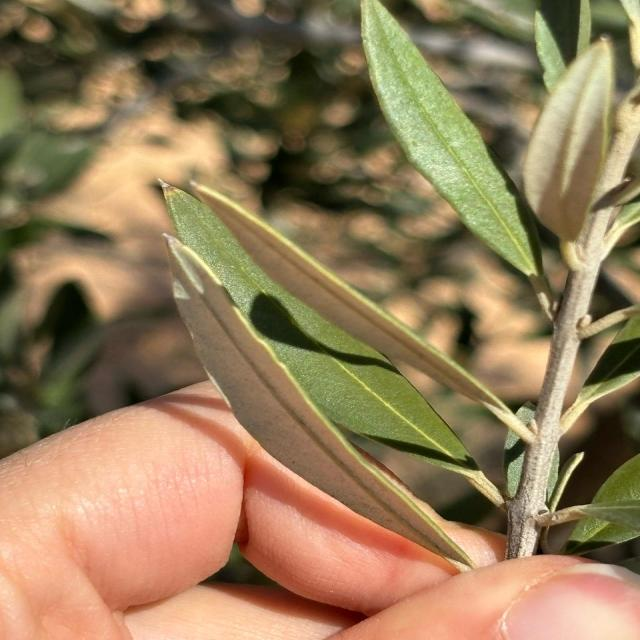Healthy: (164, 235, 468, 560), (361, 0, 548, 289)
